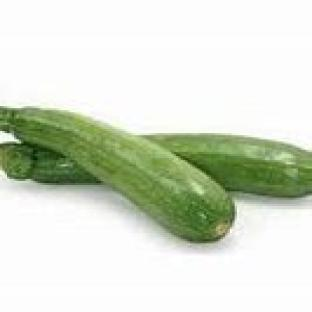Zucchini: (0, 109, 234, 241), (148, 134, 311, 197)
